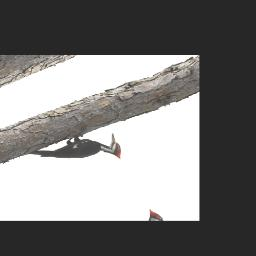Woodpecker: (27, 123, 128, 188)
